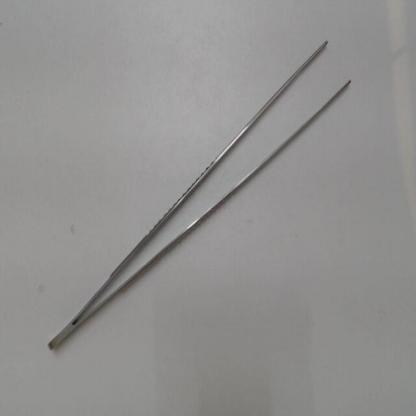DeBakey Dissector: (40, 31, 375, 380)
